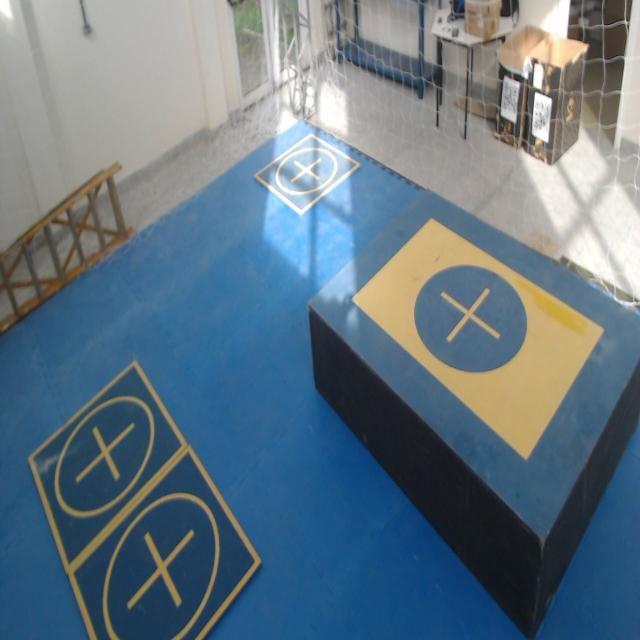base_inicio: (352, 216, 605, 460)
base_pouso: (68, 442, 263, 639), (28, 359, 188, 576), (252, 131, 360, 217)
